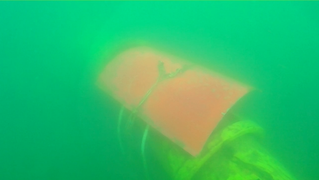leak: (92, 45, 249, 157)
pipe: (104, 93, 294, 180), (56, 13, 147, 88)
